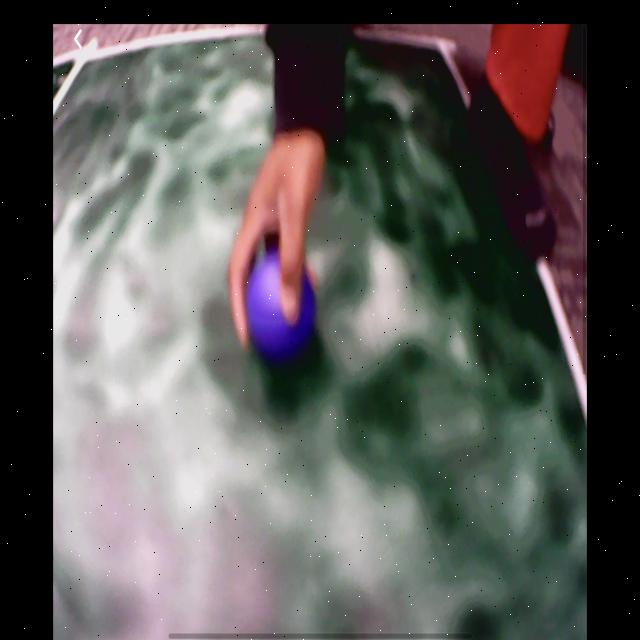ball: (248, 255, 318, 358)
